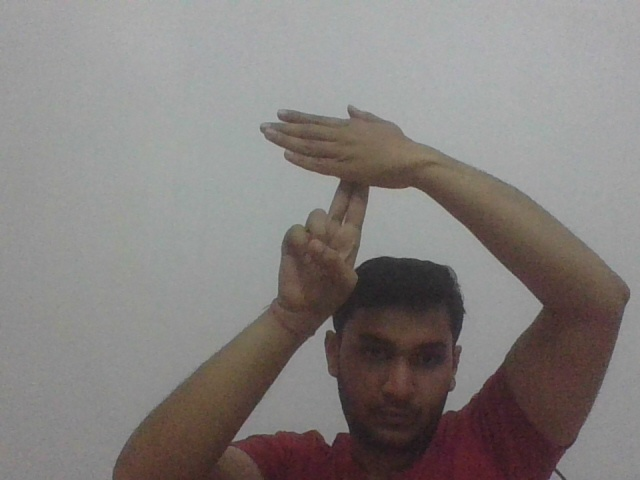N: (257, 103, 410, 222)
